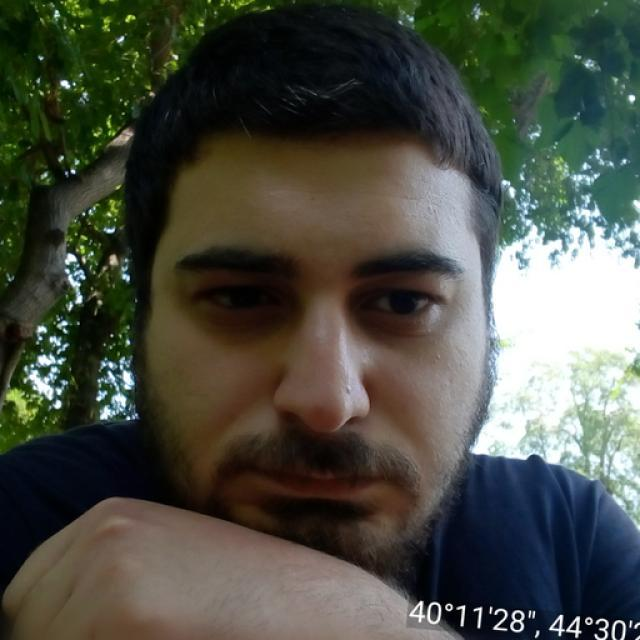sad: (142, 122, 488, 570)
